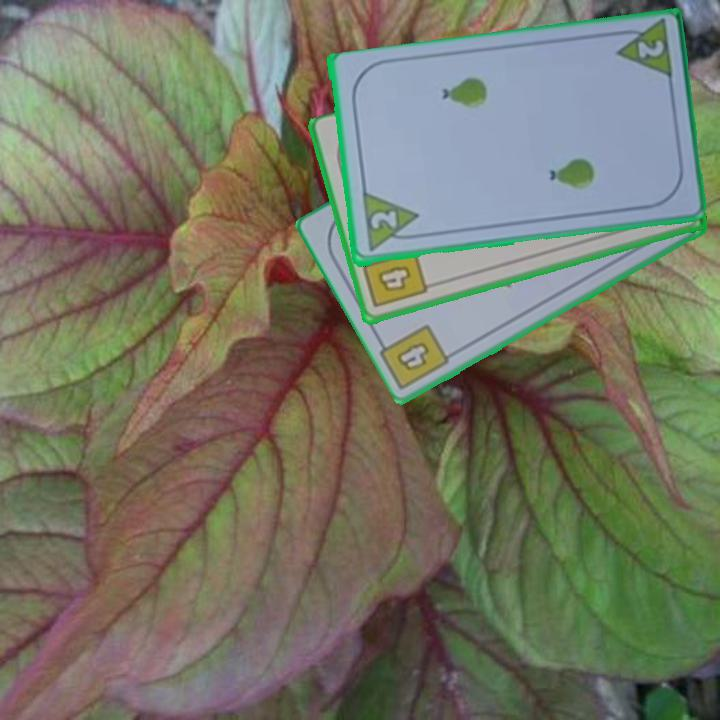2p: (358, 190, 423, 255), (633, 36, 667, 61)
4b: (359, 247, 430, 311), (392, 338, 433, 375)
